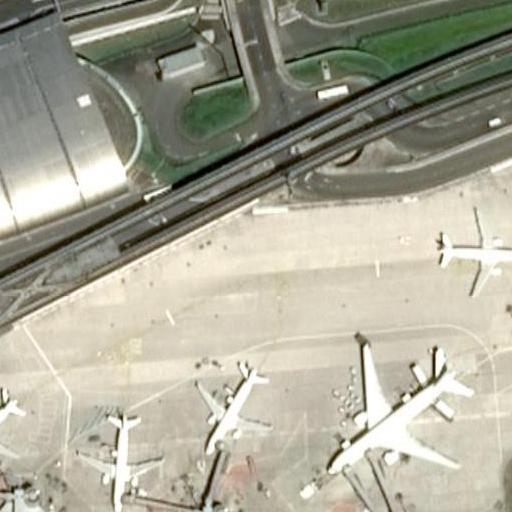Aircraft: (324, 339, 479, 480), (75, 405, 166, 511), (425, 204, 512, 300), (193, 354, 272, 455), (0, 378, 30, 470)
